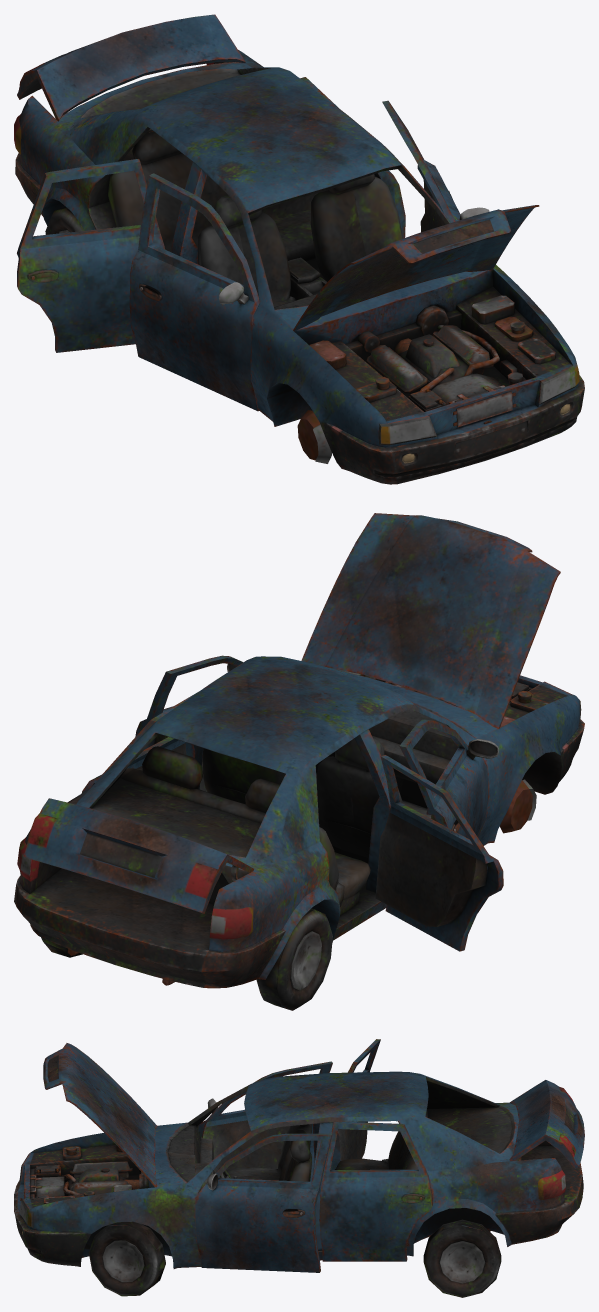
3 renders of one model, top to bottom at view 1: azimuth 30°, elevation 25°; view 2: azimuth 150°, elevation 25°; view 3: azimuth 270°, elevation 25°, orthographic. The views are drawn at different scales.
Visible parts, largest first — view 1: KUZA_0, Seats.001_6, ON QAPI_2, ARXA QAPI_3, Engine.001_8, BAQAJ_4, KAPOT_1, ON QAPI.001_12, SALON_5, TEKER.002_15, TEKER.003_11; view 2: KUZA_0, KAPOT_1, Seats.001_6, ARXA QAPI_3, BAQAJ_4, ON QAPI_2, TEKER.003_11, SALON_5, ON QAPI.001_12, TEKER.002_15, ARXA QAPI.001_13, Engine.001_8; view 3: KUZA_0, ON QAPI.001_12, ARXA QAPI.001_13, KAPOT_1, TEKER.001_14, TEKER.004_10, BAQAJ_4, ON QAPI_2, Engine.001_8, Seats.001_6, SALON_5, ARXA QAPI_3.
Boxes of the visible parts, <box> form: KUZA_0: <box>14,50,584,484</box>; Seats.001_6: <box>108,129,402,306</box>; ON QAPI_2: <box>129,173,259,411</box>; ARXA QAPI_3: <box>17,159,165,352</box>; Engine.001_8: <box>309,295,555,411</box>; BAQAJ_4: <box>17,14,245,121</box>; KAPOT_1: <box>293,205,539,331</box>; ON QAPI.001_12: <box>382,100,489,232</box>; SALON_5: <box>274,257,326,309</box>; TEKER.002_15: <box>297,410,331,463</box>; TEKER.003_11: <box>45,207,84,234</box>; KUZA_0: <box>14,656,584,988</box>; KAPOT_1: <box>301,513,560,728</box>; Seats.001_6: <box>120,737,431,915</box>; ARXA QAPI_3: <box>375,755,503,951</box>; BAQAJ_4: <box>23,798,253,913</box>; ON QAPI_2: <box>399,719,498,838</box>; TEKER.003_11: <box>256,908,332,1010</box>; SALON_5: <box>319,710,458,826</box>; ON QAPI.001_12: <box>135,655,243,791</box>; TEKER.002_15: <box>499,779,536,833</box>; ARXA QAPI.001_13: <box>81,692,197,793</box>; Engine.001_8: <box>333,668,549,727</box>; KUZA_0: <box>14,1071,583,1268</box>; ON QAPI.001_12: <box>195,1133,332,1272</box>; ARXA QAPI.001_13: <box>319,1122,432,1261</box>; KAPOT_1: <box>43,1043,157,1187</box>; TEKER.001_14: <box>423,1219,501,1297</box>; TEKER.004_10: <box>88,1221,165,1296</box>; BAQAJ_4: <box>509,1080,584,1168</box>; ON QAPI_2: <box>198,1061,332,1181</box>; Engine.001_8: <box>35,1145,148,1203</box>; Seats.001_6: <box>223,1109,428,1181</box>; SALON_5: <box>168,1124,237,1192</box>; ARXA QAPI_3: <box>330,1039,380,1169</box>.
Bounding box in the file's own units: 12.73 × 7.76 × 21.34.
Materials: 1 (1 with a texture image).
